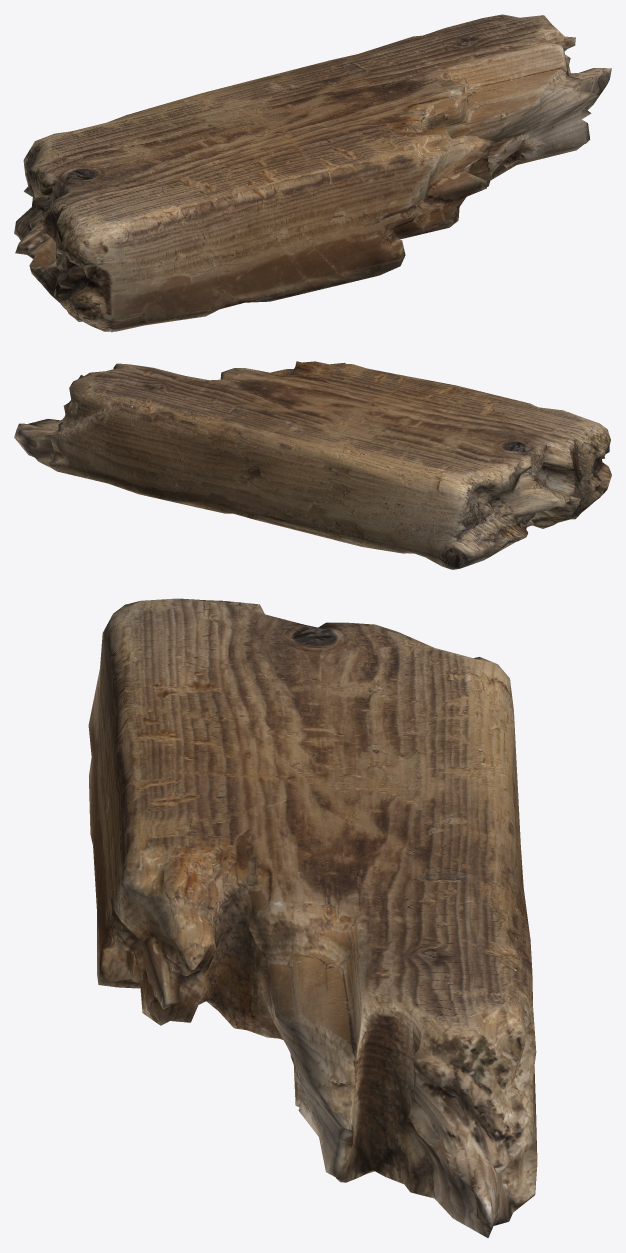
Rendered from Wood Splinter.fbx.
3 views of the same model, one above another, from view 1: azimuth 30°, elevation 25°; view 2: azimuth 150°, elevation 25°; view 3: azimuth 270°, elevation 25° (orthographic). The views are drawn at different scales.
Visible parts, largest first — view 1: Wood Timber Debris; view 2: Wood Timber Debris; view 3: Wood Timber Debris.
Part boxes in pixels (x1=…): Wood Timber Debris: x1=14, y1=14, x2=611, y2=332; Wood Timber Debris: x1=14, y1=361, x2=611, y2=569; Wood Timber Debris: x1=88, y1=598, x2=537, y2=1237.
Size of the model in its own units: 48.21 by 8.54 by 18.34.
